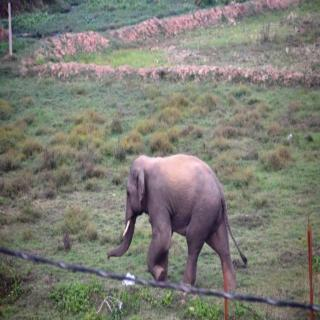Elephant: (104, 149, 252, 315)
